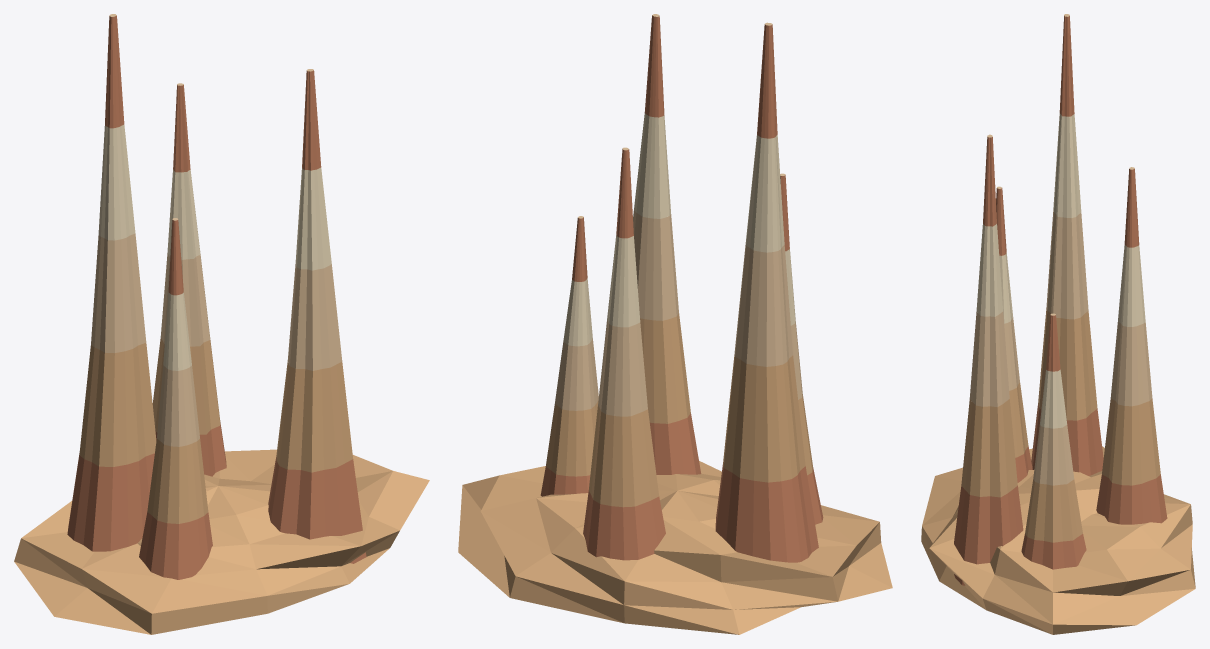
File: desert-canyons-and-oases-spire-cluster-fa419075__20897.glb
3 views of the same model, side by side, from view 1: azimuth 30°, elevation 25°; view 2: azimuth 150°, elevation 25°; view 3: azimuth 270°, elevation 25° (orthographic). The views are drawn at different scales.
Visible parts, largest first — view 1: spire-cluster; view 2: spire-cluster; view 3: spire-cluster.
Boxes of the visible parts, x1,y1,x2,y2 form: spire-cluster: (14, 14, 429, 634); spire-cluster: (458, 14, 892, 634); spire-cluster: (921, 14, 1195, 634).
Bounding box in the file's own units: 4.14 × 5.5 × 2.77.
